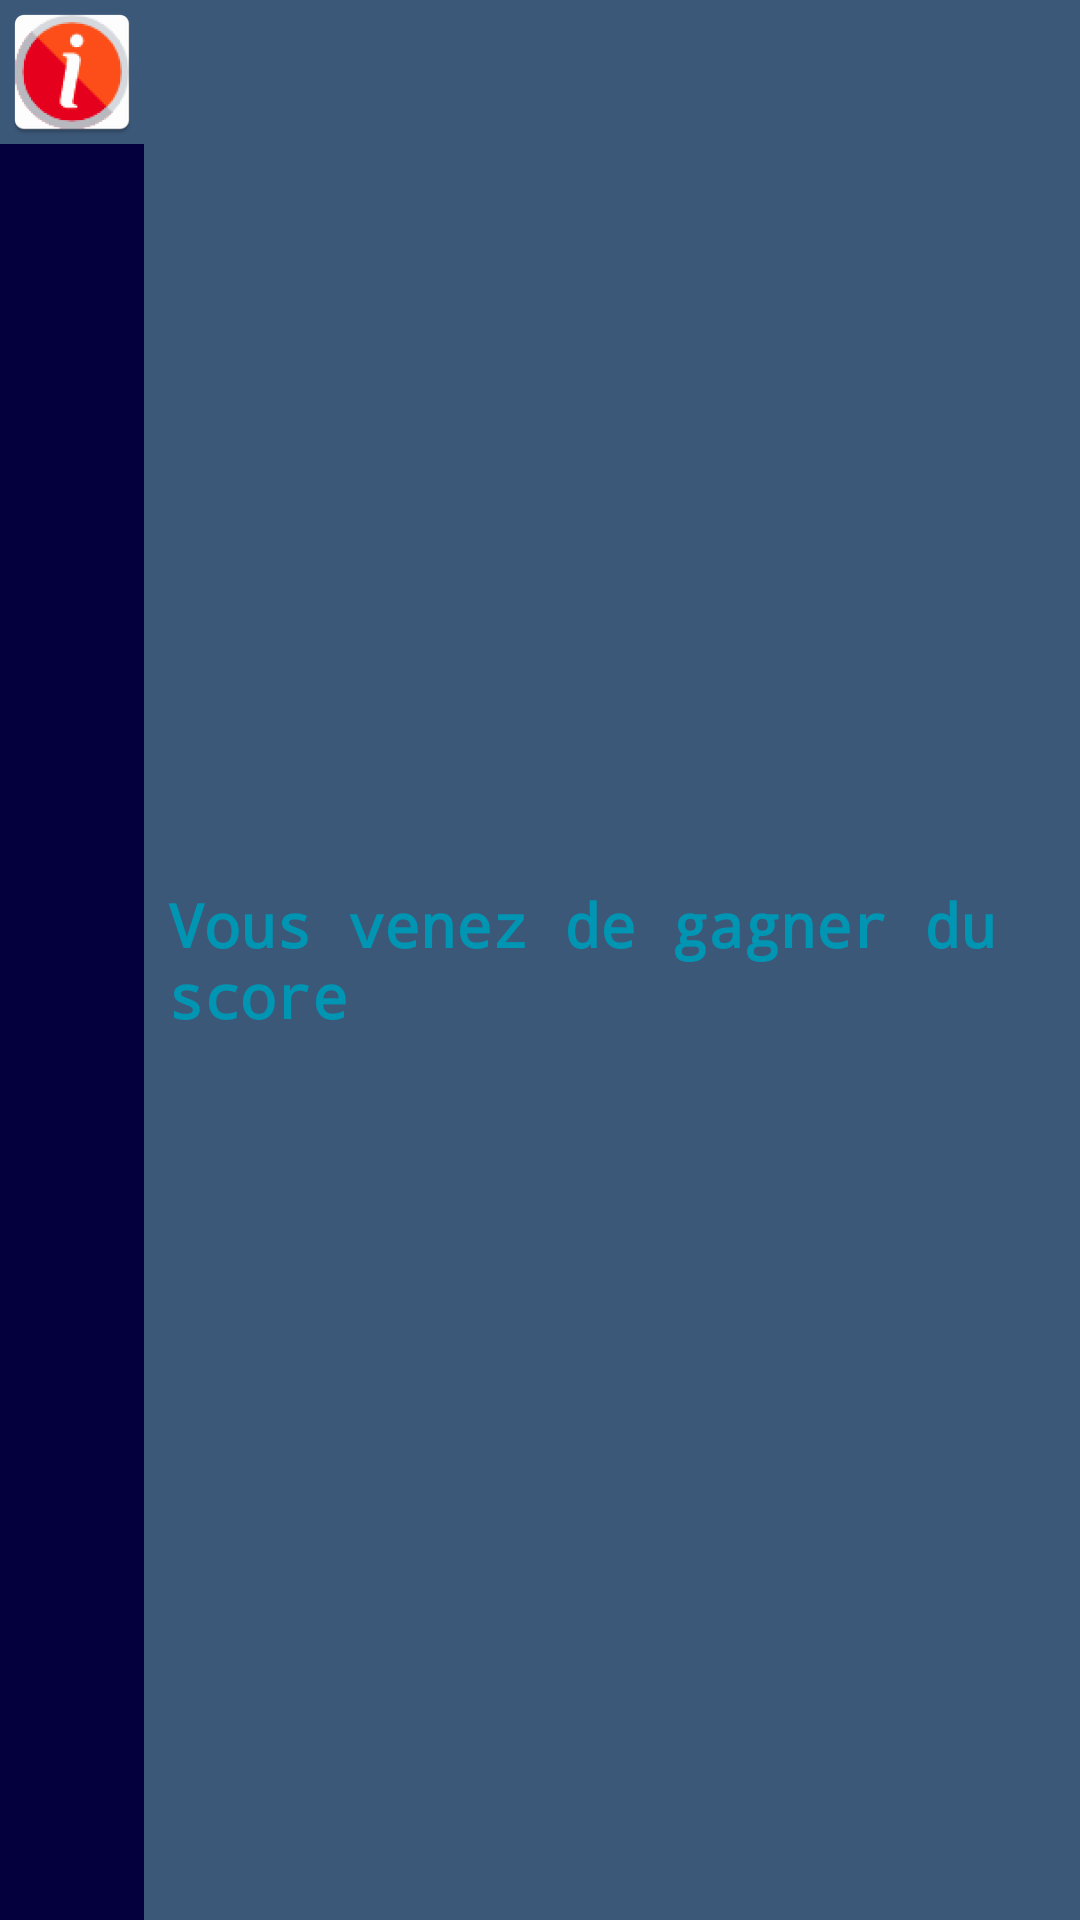

Screen size 1080 x 1920. Icon name, then its center in pixels as (x=x, y=y):
info: (x=72, y=71)
